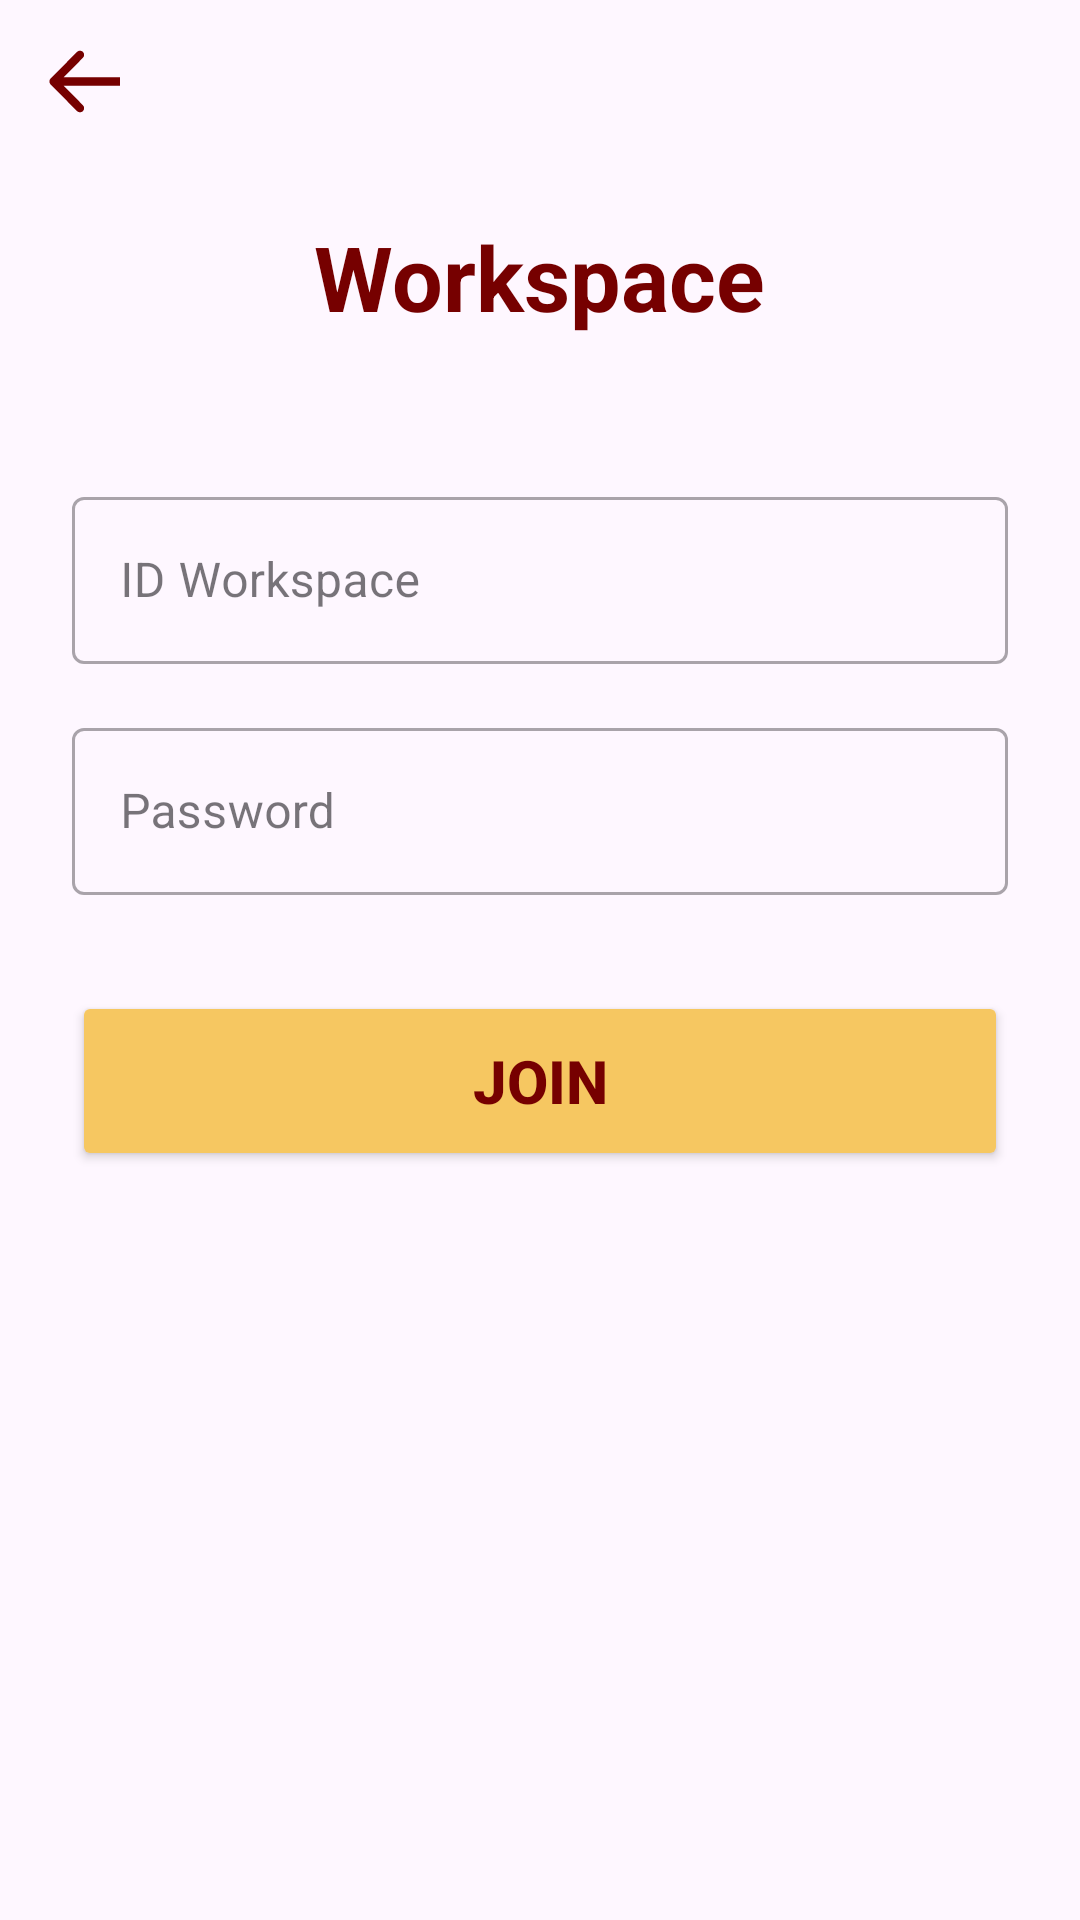

Screen size 1080w x 1920h. Icon name, then its center in pixels as (x,y):
Tombol Kembali: (84,81)
